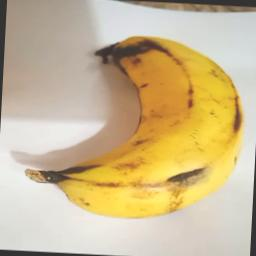Banana Unripe: (24, 26, 248, 224)
